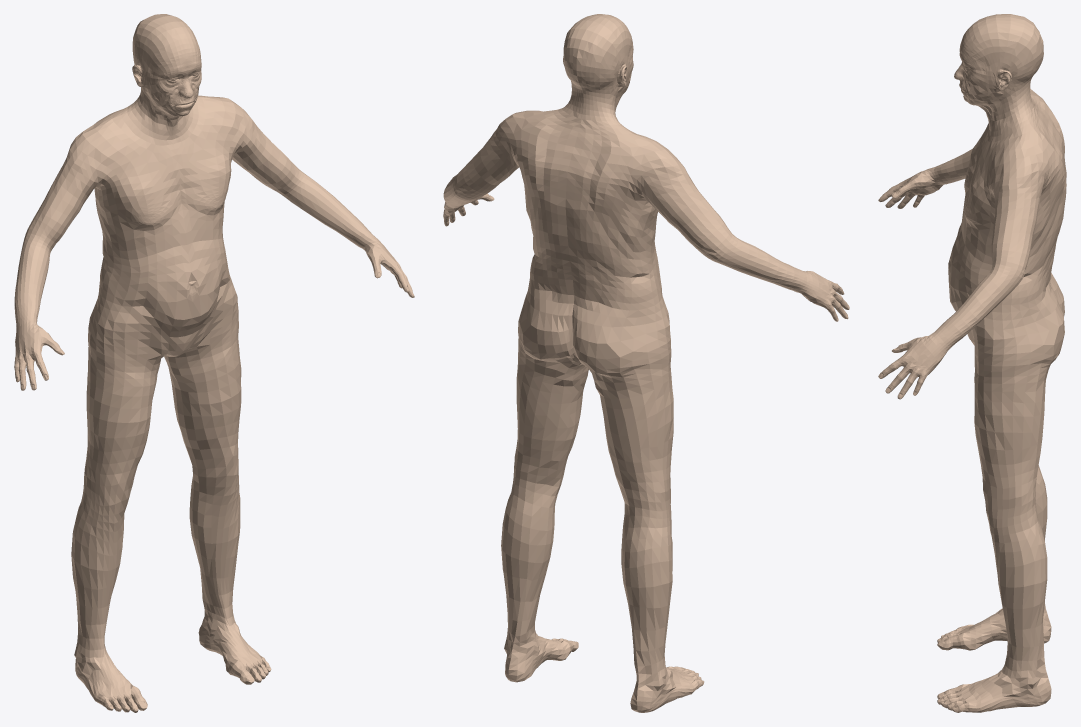
The model's file is male-elder-max-medium.glb.
3 renders of one model, left to right at view 1: azimuth 30°, elevation 25°; view 2: azimuth 150°, elevation 25°; view 3: azimuth 270°, elevation 25°, orthographic.
Visible parts, largest first — view 1: world; view 2: world; view 3: world.
Part boxes in pixels (left/top/right/bottom): world: left=14, top=14, right=414, bottom=712; world: left=443, top=14, right=849, bottom=712; world: left=878, top=14, right=1066, bottom=712.
Size of the model in its own units: 1.2 by 1.93 by 0.4996.
